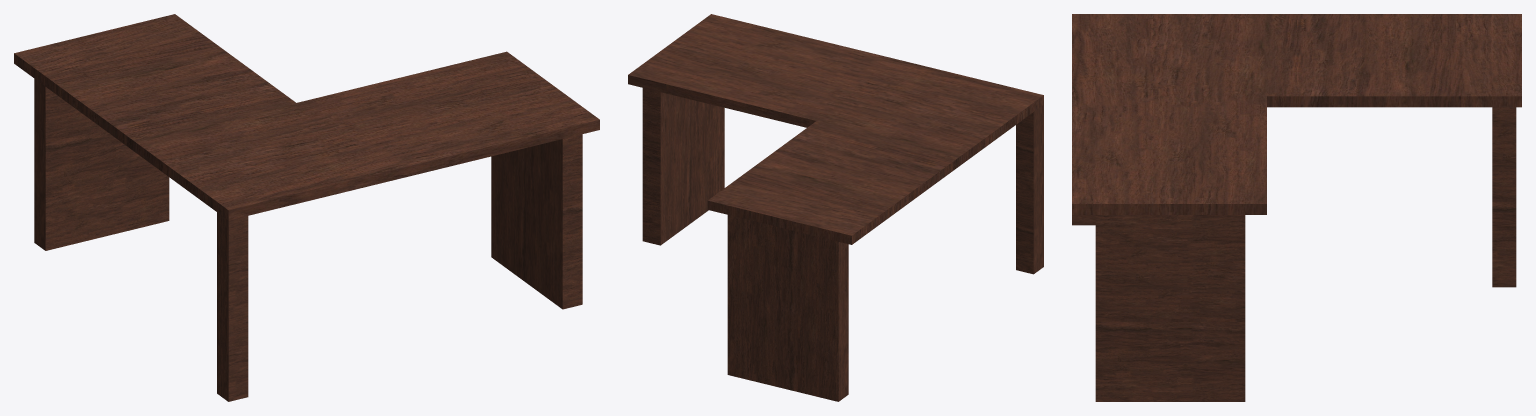
File: desk.fbx
The picture shows the model from 3 angles, left to right: view 1: azimuth 30°, elevation 25°; view 2: azimuth 150°, elevation 25°; view 3: azimuth 270°, elevation 25°; orthographic projection. The views are drawn at different scales.
Visible parts, largest first — view 1: Cube, Cube_002, Cube_003, Cube_001; view 2: Cube, Cube_002, Cube_003, Cube_001; view 3: Cube, Cube_003, Cube_002.
Part boxes in pixels (box(x1,y1,x2,y2)): Cube: box(14, 14, 599, 220); Cube_002: box(34, 79, 169, 250); Cube_003: box(491, 134, 582, 309); Cube_001: box(217, 212, 248, 401); Cube: box(628, 14, 1043, 244); Cube_002: box(727, 215, 848, 401); Cube_003: box(642, 88, 724, 245); Cube_001: box(1016, 104, 1043, 274); Cube: box(1072, 14, 1521, 214); Cube_003: box(1095, 215, 1245, 401); Cube_002: box(1492, 107, 1516, 287).
Bounding box in the file's own units: 1.5 × 0.74 × 1.5.
